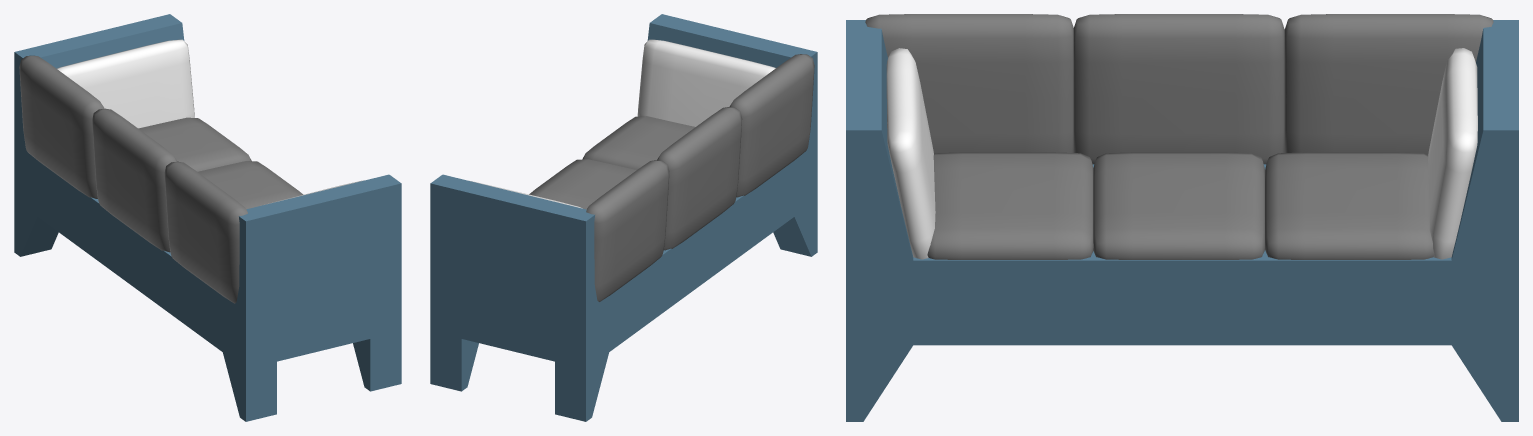
Rendered from couch.fbx.
3 renders of one model, left to right at view 1: azimuth 30°, elevation 25°; view 2: azimuth 150°, elevation 25°; view 3: azimuth 270°, elevation 25°, orthographic. The views are drawn at different scales.
Visible parts, largest first — view 1: Couch; view 2: Couch; view 3: Couch.
Part boxes in pixels (x1,y1,x2,y2): Couch: [14, 14, 401, 421]; Couch: [430, 14, 817, 421]; Couch: [846, 14, 1518, 421].
Size of the model in its own units: 80.63 by 97.07 by 198.
